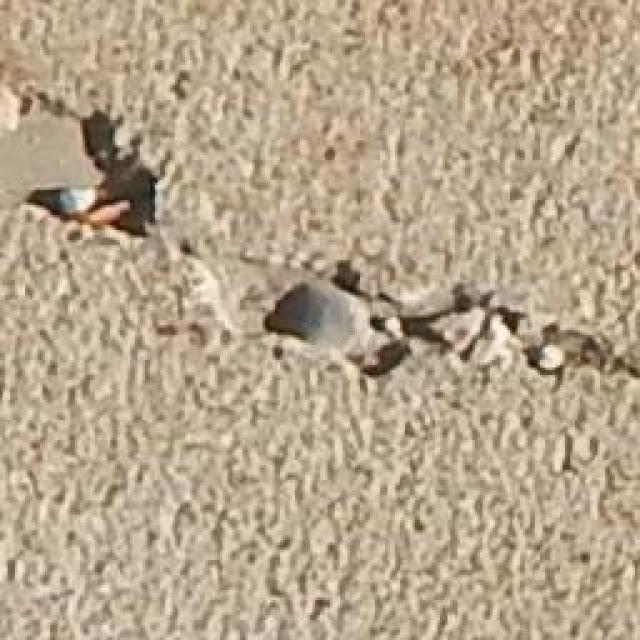concrete-crack: (256, 251, 640, 389), (3, 66, 165, 245)
